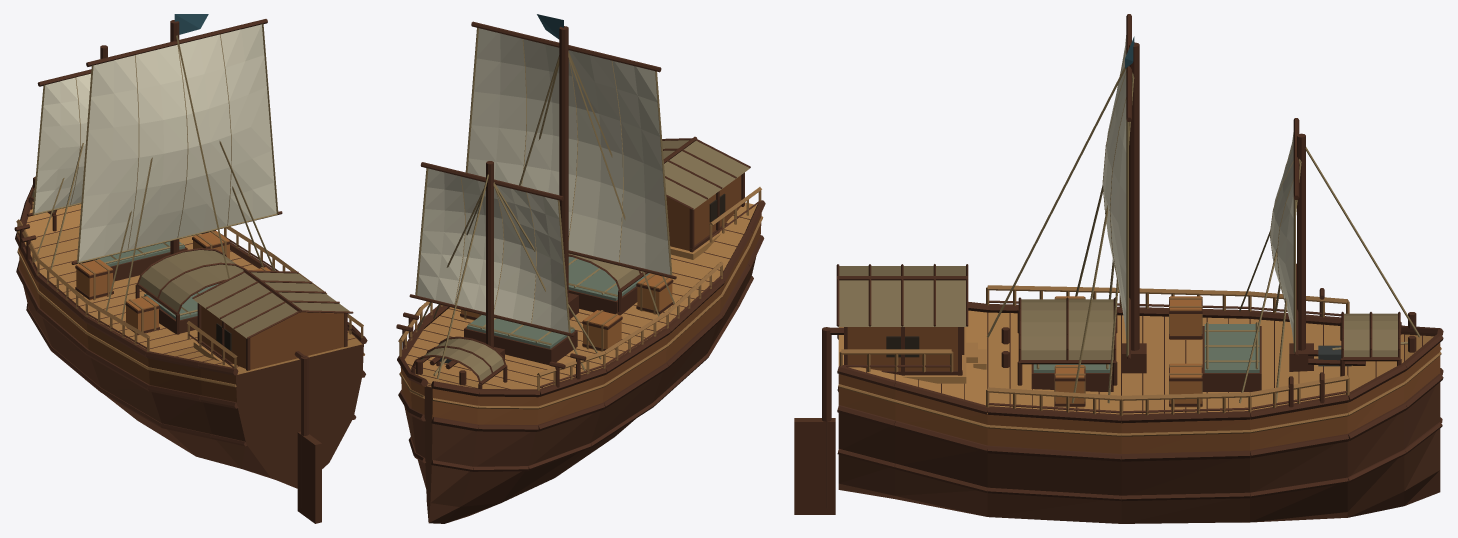
Rendered from merchant_ship.obj.
The picture shows the model from 3 angles, left to right: view 1: azimuth 30°, elevation 25°; view 2: azimuth 150°, elevation 25°; view 3: azimuth 270°, elevation 25°; orthographic projection. The views are drawn at different scales.
Visible parts, largest first — view 1: 12_main_sail_canvas, 01_deep_ocean_hull, 02_hull_wales_and_bulwarks, 06_plain_pitched_cabin_roof, 12_fore_sail_canvas, 05_stern_steering_cabin, 08_mid_cargo_shelter, 12_main_sail_seams_and_yards, 09_secured_deck_cargo, 17_rudder_and_mooring, 08_large_cargo_hatches, 14_main_shrouds (+4 smaller); view 2: 01_deep_ocean_hull, 12_main_sail_canvas, 12_fore_sail_canvas, 02_hull_wales_and_bulwarks, 08_large_cargo_hatches, 06_plain_pitched_cabin_roof, 05_stern_steering_cabin, 12_main_sail_seams_and_yards, 09_secured_deck_cargo, 12_fore_sail_seams_and_yards, 11_main_mast, 04_low_bow_shelter (+6 smaller); view 3: 01_deep_ocean_hull, 02_hull_wales_and_bulwarks, 06_plain_pitched_cabin_roof, 08_mid_cargo_shelter, 05_stern_steering_cabin, 17_rudder_and_mooring, 08_large_cargo_hatches, 09_secured_deck_cargo, 12_main_sail_canvas, 11_main_mast, 04_low_bow_shelter, 12_fore_sail_canvas (+7 smaller).
Boxes of the visible parts, bbox=[...] form: 12_main_sail_canvas: bbox=[78, 24, 276, 261]; 01_deep_ocean_hull: bbox=[19, 202, 363, 488]; 02_hull_wales_and_bulwarks: bbox=[15, 185, 367, 446]; 06_plain_pitched_cabin_roof: bbox=[192, 269, 353, 338]; 12_fore_sail_canvas: bbox=[34, 73, 90, 213]; 05_stern_steering_cabin: bbox=[187, 303, 363, 370]; 08_mid_cargo_shelter: bbox=[135, 248, 245, 334]; 12_main_sail_seams_and_yards: bbox=[71, 19, 282, 264]; 09_secured_deck_cargo: bbox=[75, 230, 270, 334]; 17_rudder_and_mooring: bbox=[33, 176, 321, 523]; 08_large_cargo_hatches: bbox=[79, 241, 219, 333]; 14_main_shrouds: bbox=[105, 35, 275, 324]; 01_deep_ocean_hull: bbox=[400, 202, 761, 523]; 12_main_sail_canvas: bbox=[467, 28, 670, 274]; 12_fore_sail_canvas: bbox=[417, 168, 568, 332]; 02_hull_wales_and_bulwarks: bbox=[397, 200, 765, 471]; 08_large_cargo_hatches: bbox=[464, 256, 649, 365]; 06_plain_pitched_cabin_roof: bbox=[662, 136, 750, 209]; 05_stern_steering_cabin: bbox=[667, 172, 761, 259]; 12_main_sail_seams_and_yards: bbox=[465, 21, 676, 279]; 09_secured_deck_cargo: bbox=[460, 273, 673, 351]; 12_fore_sail_seams_and_yards: bbox=[409, 162, 574, 336]; 11_main_mast: bbox=[559, 26, 578, 318]; 04_low_bow_shelter: bbox=[411, 336, 507, 389]; 01_deep_ocean_hull: bbox=[838, 310, 1440, 523]; 02_hull_wales_and_bulwarks: bbox=[837, 285, 1443, 501]; 06_plain_pitched_cabin_roof: bbox=[836, 264, 968, 326]; 08_mid_cargo_shelter: bbox=[1017, 297, 1117, 385]; 05_stern_steering_cabin: bbox=[839, 327, 966, 383]; 17_rudder_and_mooring: bbox=[794, 312, 1416, 514]; 08_large_cargo_hatches: bbox=[1031, 322, 1261, 391]; 09_secured_deck_cargo: bbox=[1054, 296, 1202, 407]; 12_main_sail_canvas: bbox=[1103, 35, 1126, 338]; 11_main_mast: bbox=[1122, 42, 1146, 373]; 04_low_bow_shelter: bbox=[1340, 311, 1401, 376]; 12_fore_sail_canvas: bbox=[1270, 132, 1293, 341].
Size of the model in its own units: 8.34 by 15.66 by 18.93.
